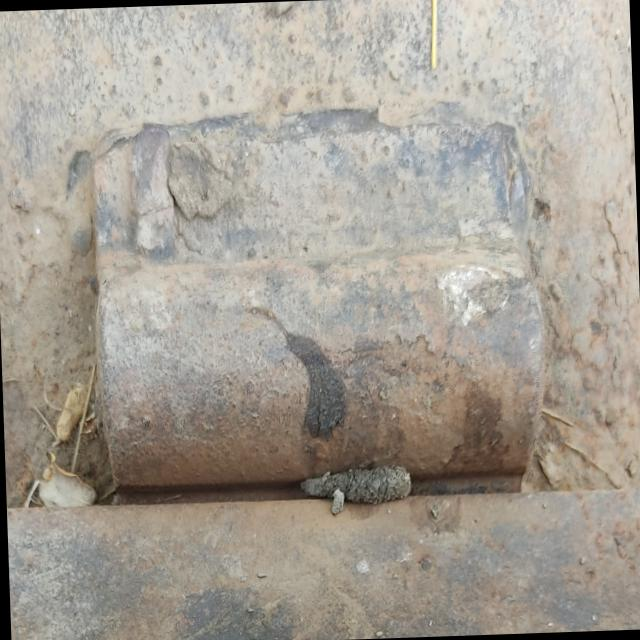track_bolt_missing: (84, 231, 550, 494)
